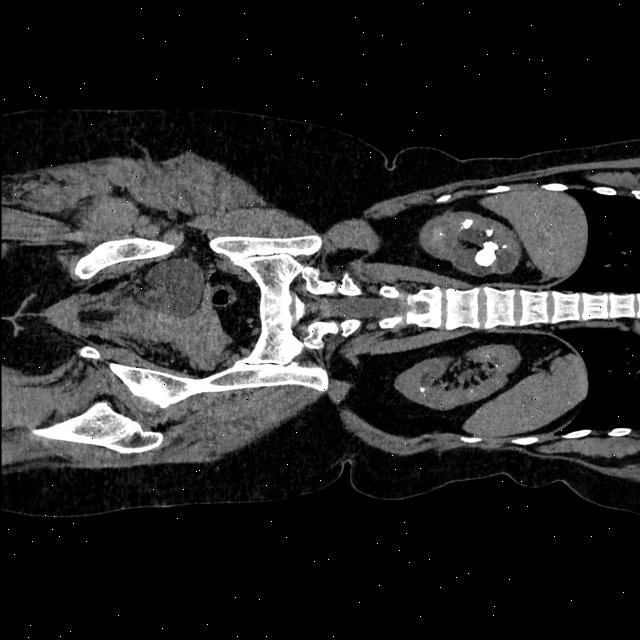kidneystone: (474, 241, 498, 266), (461, 219, 472, 229), (485, 230, 493, 236)
